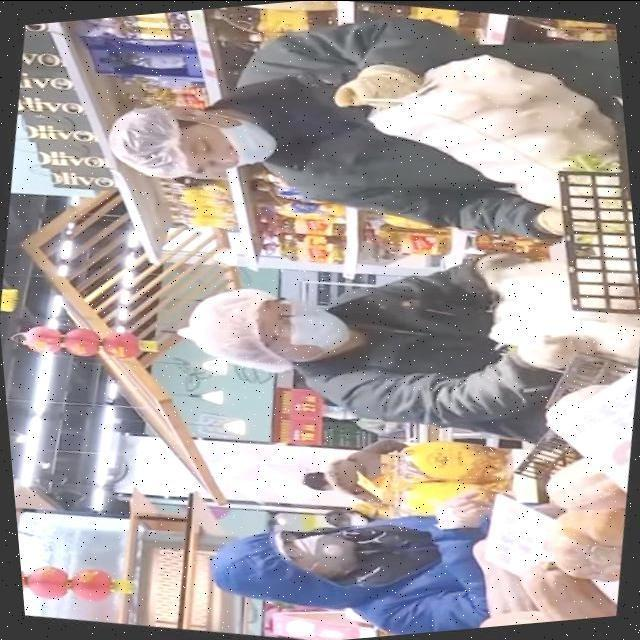apron: (313, 70, 425, 111), (432, 484, 500, 534), (514, 340, 580, 375), (488, 266, 542, 298)
gloves: (198, 302, 262, 372), (213, 547, 282, 605), (116, 117, 178, 175)
mask: (288, 304, 350, 356), (228, 125, 280, 164), (312, 534, 359, 570)
